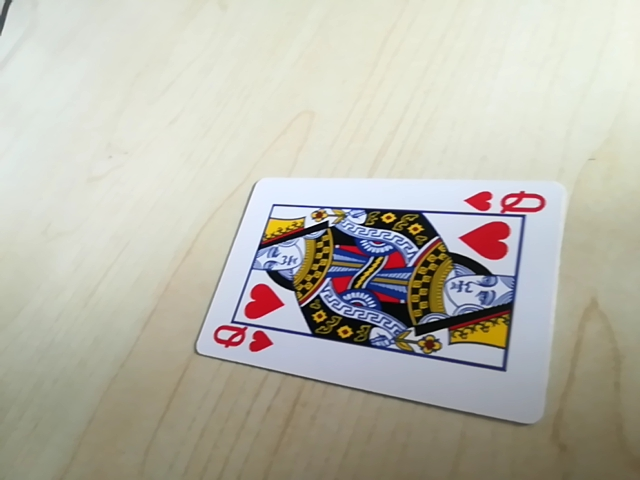hx q: (459, 186, 547, 219), (207, 324, 271, 357)
